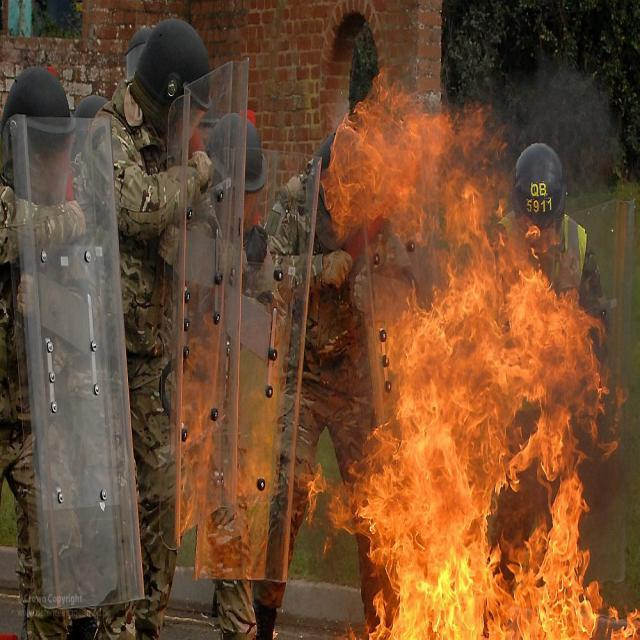Fire: (392, 328, 489, 624), (502, 274, 576, 431), (346, 114, 434, 205)
